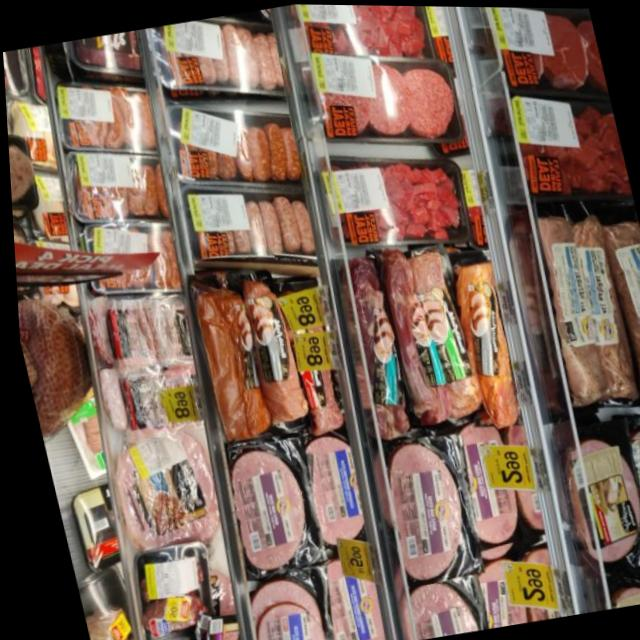Meat: (298, 29, 468, 166), (307, 130, 475, 265), (368, 235, 484, 427), (522, 195, 608, 409), (365, 425, 479, 586), (156, 80, 308, 200), (500, 77, 631, 213), (547, 406, 640, 591), (103, 419, 225, 559), (207, 428, 320, 579), (171, 164, 322, 276), (178, 270, 268, 443), (144, 6, 289, 113), (477, 6, 609, 112), (564, 209, 636, 396), (272, 265, 349, 433), (228, 265, 306, 429), (14, 291, 99, 441), (285, 3, 438, 85), (87, 343, 206, 436), (45, 68, 159, 165), (75, 208, 184, 304), (80, 280, 190, 375), (55, 141, 167, 232), (447, 412, 522, 547), (115, 538, 214, 640), (288, 419, 364, 549), (598, 216, 640, 396), (306, 547, 381, 640), (237, 565, 330, 640), (384, 572, 476, 640), (606, 401, 640, 554), (5, 117, 39, 213), (2, 48, 31, 102)
